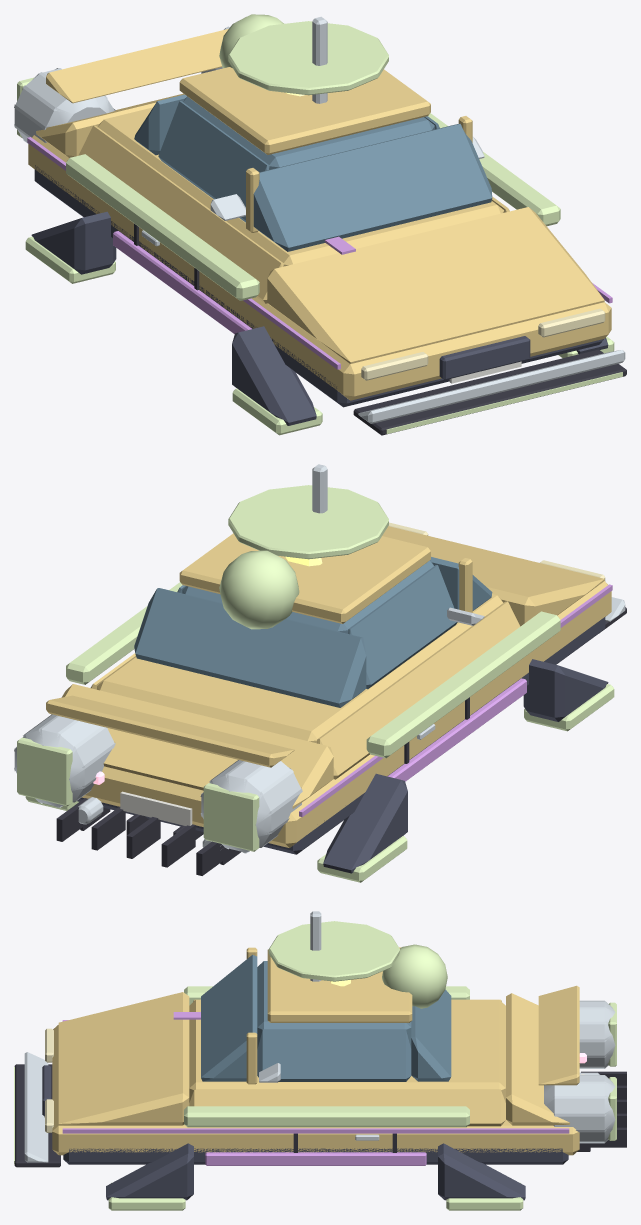
The model's file is ion_skimmer.fbx.
The picture shows the model from 3 angles, top to bottom: view 1: azimuth 30°, elevation 25°; view 2: azimuth 150°, elevation 25°; view 3: azimuth 270°, elevation 25°; orthographic projection. The views are drawn at different scales.
Parts seen in each view (by area): view 1: Body, Glass, Light, Trim2, Accent, Trim, Accent2, Light2; view 2: Body, Light, Glass, Trim2, Accent, Trim, Accent2, Accent3, Metal; view 3: Body, Light, Glass, Trim2, Accent, Accent2, Trim, Light2.
Part boxes in pixels (box(x1,y1,x2,y2)): Body: box(28, 29, 611, 400); Glass: box(134, 94, 492, 251); Light: box(17, 14, 622, 435); Trim2: box(31, 165, 608, 425); Accent: box(14, 16, 625, 423); Trim: box(134, 223, 626, 435); Accent2: box(27, 137, 612, 369); Light2: box(361, 308, 605, 380); Body: box(46, 526, 611, 847); Light: box(17, 485, 614, 882); Glass: box(134, 557, 492, 707); Trim2: box(77, 617, 608, 873); Accent: box(14, 464, 625, 853); Trim: box(56, 607, 626, 875); Accent2: box(299, 584, 612, 817); Accent3: box(120, 791, 192, 825); Metal: box(78, 724, 435, 850); Body: box(52, 947, 579, 1155); Light: box(14, 921, 616, 1210); Glass: box(201, 954, 451, 1081); Trim2: box(42, 1065, 568, 1200); Accent: box(24, 911, 615, 1162); Accent2: box(62, 1012, 569, 1165); Trim: box(14, 1064, 626, 1167); Light2: box(45, 1028, 53, 1132).
Bounding box in the file's own units: 2.9 × 2.33 × 5.58.
